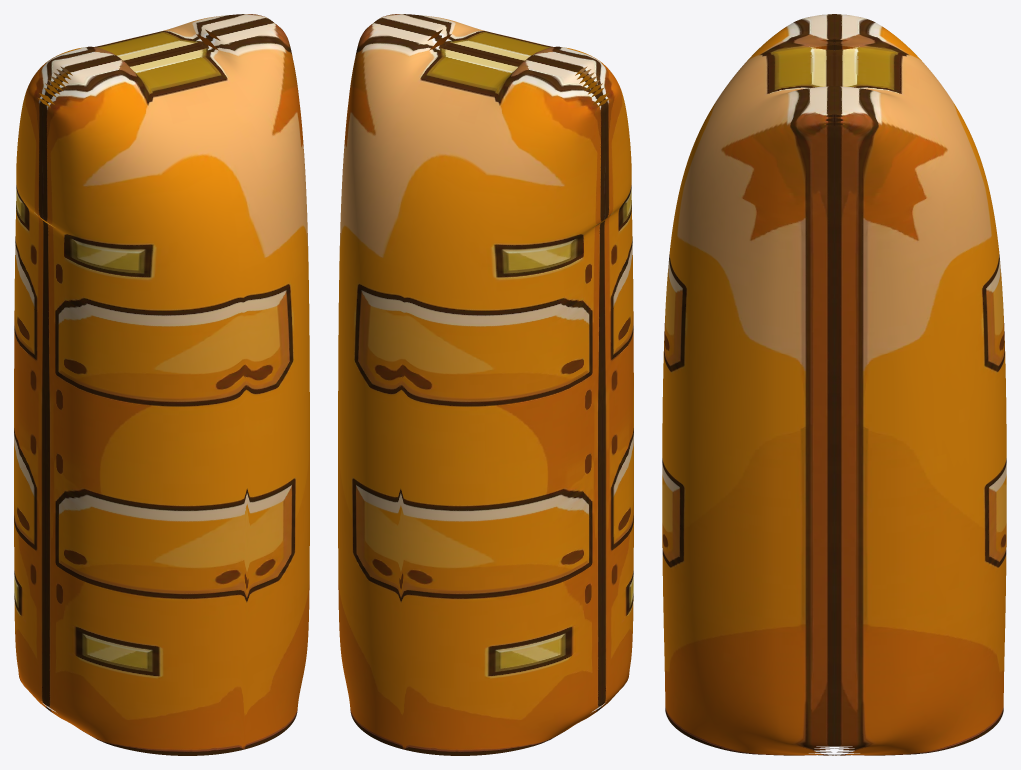
The model's file is east_wall.glb.
3 renders of one model, left to right at view 1: azimuth 30°, elevation 25°; view 2: azimuth 150°, elevation 25°; view 3: azimuth 270°, elevation 25°, orthographic.
Visible parts, largest first — view 1: east_wall; view 2: east_wall; view 3: east_wall.
Boxes of the visible parts, left/top/right/bottom form: east_wall: left=14, top=14, right=309, bottom=755; east_wall: left=338, top=14, right=633, bottom=755; east_wall: left=662, top=14, right=1006, bottom=755.
Size of the model in its own units: 0.9719 by 2.53 by 1.22.
1 material, 1 textured.
